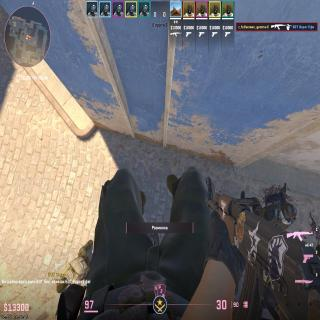T-Body: (57, 239, 94, 294)
T-Head: (57, 278, 64, 291)
